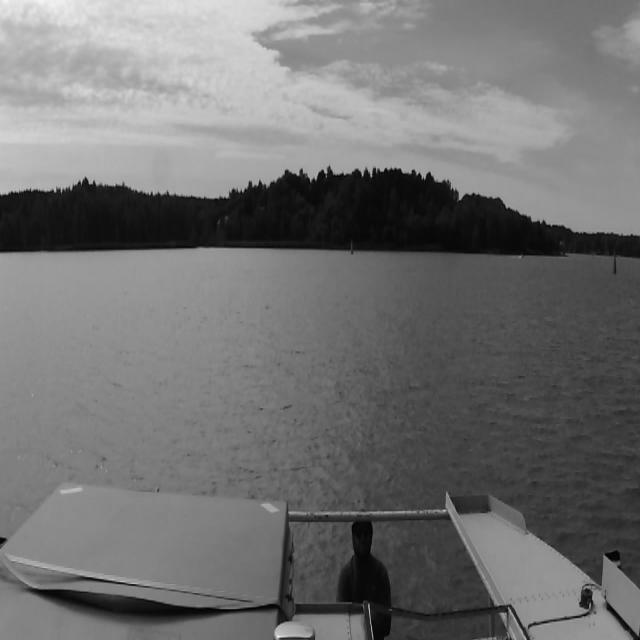buoy: (613, 254, 617, 273), (349, 239, 353, 256)
ship: (520, 252, 524, 258)
